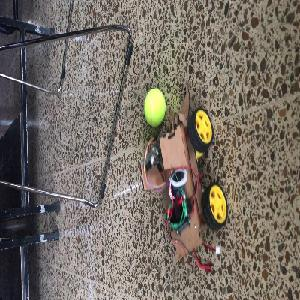Ball: (144, 89, 167, 126)
Robot: (142, 89, 228, 260)
